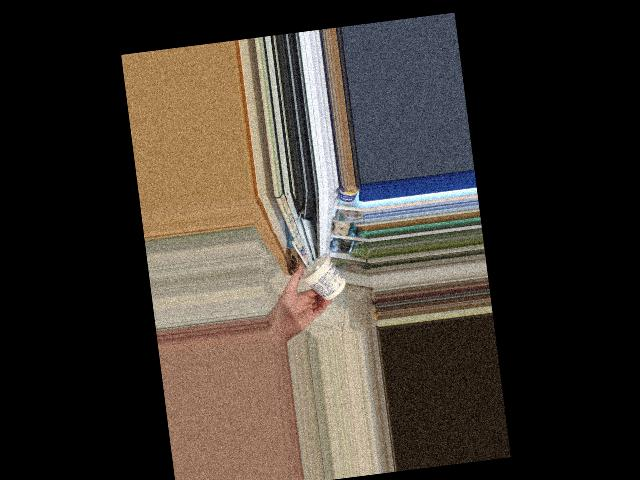cotage: (300, 250, 340, 297)
